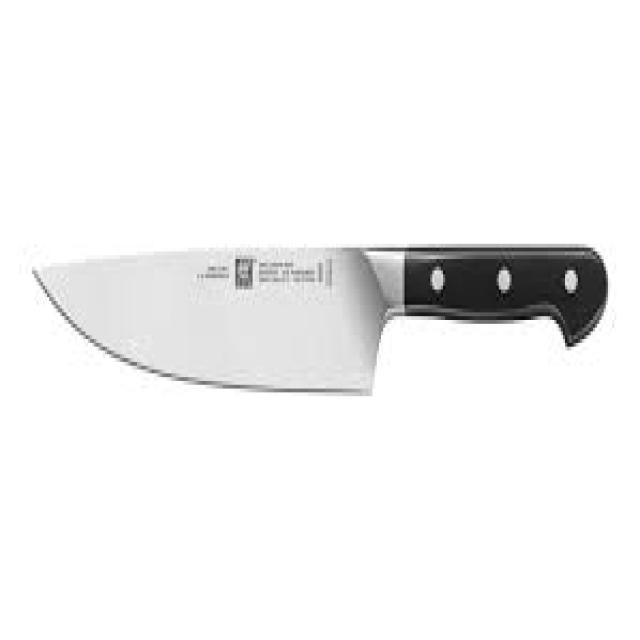knife: (30, 230, 620, 396)
